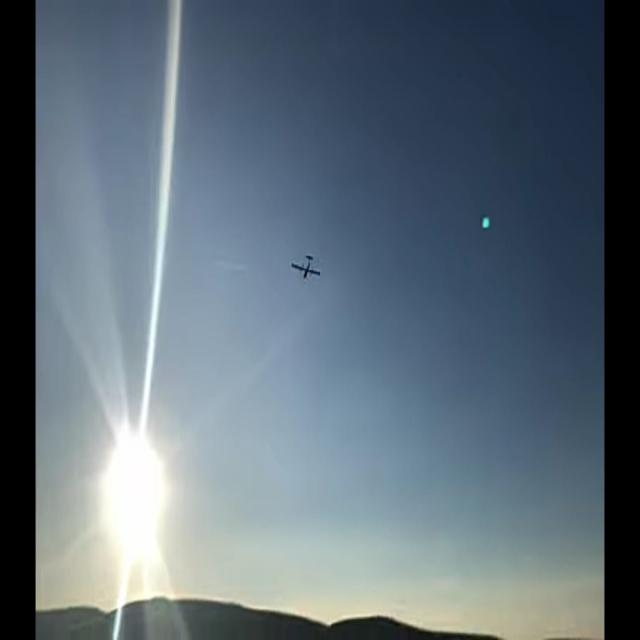iha: (291, 245, 322, 276)
